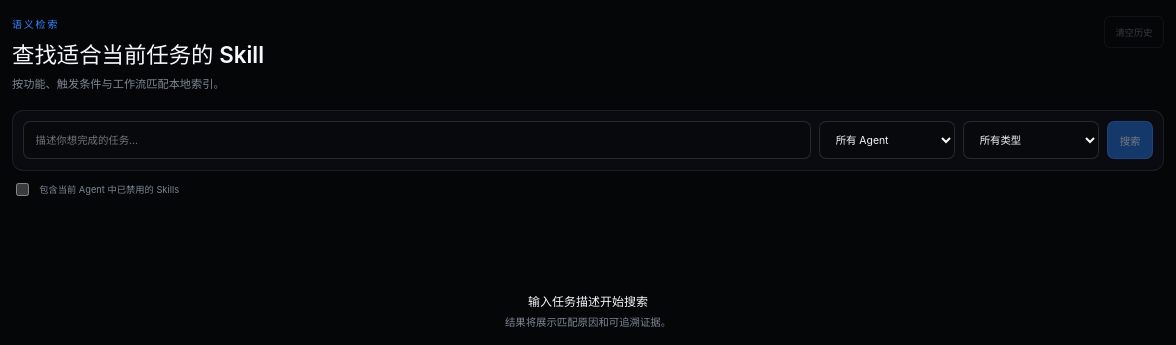
Test case: SemanticSearch › renders the zero-result state
In the search field: (417, 140) [23,121,812,159], type "publish a release"
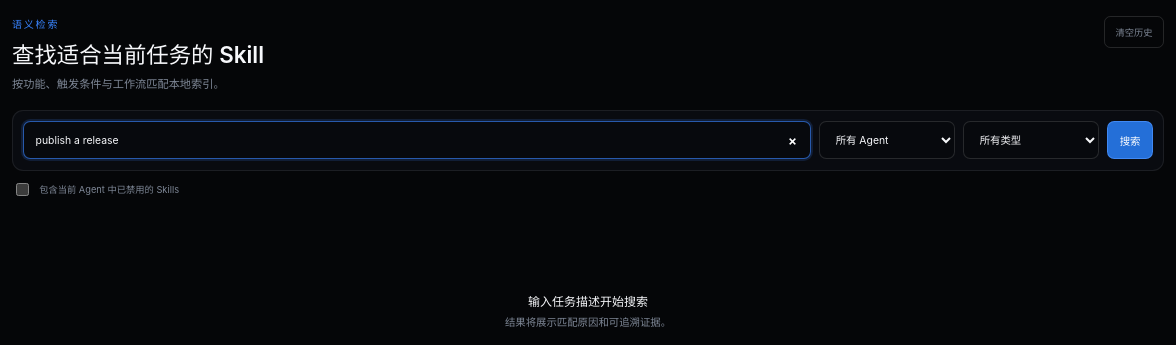
Click the button "搜索": (1130, 140) [1108,121,1153,159]
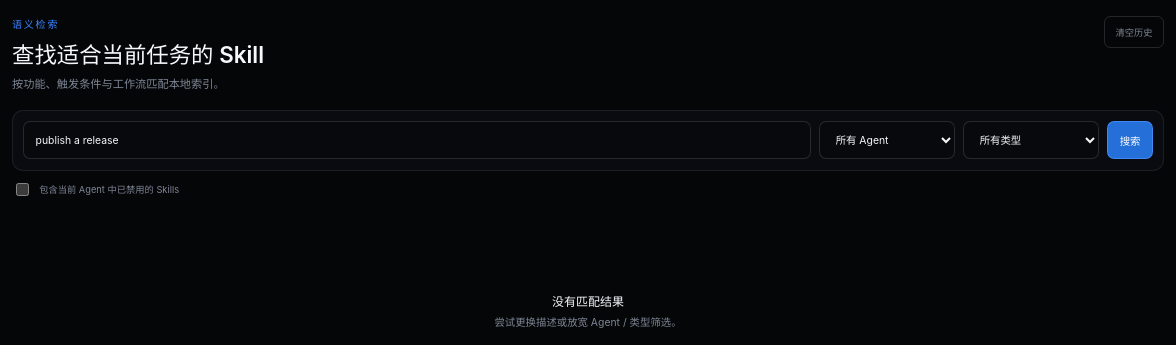
Check: the text "没有匹配结果" is shown, box [552,292,624,309]
